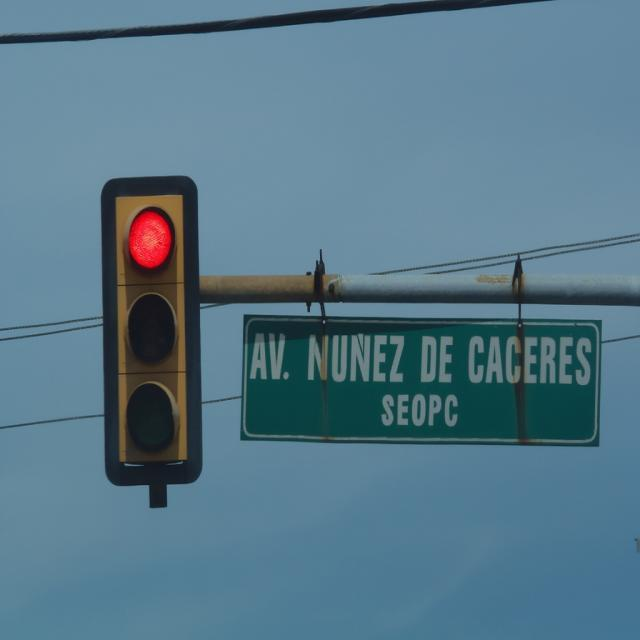traffic light: (106, 178, 201, 483)
